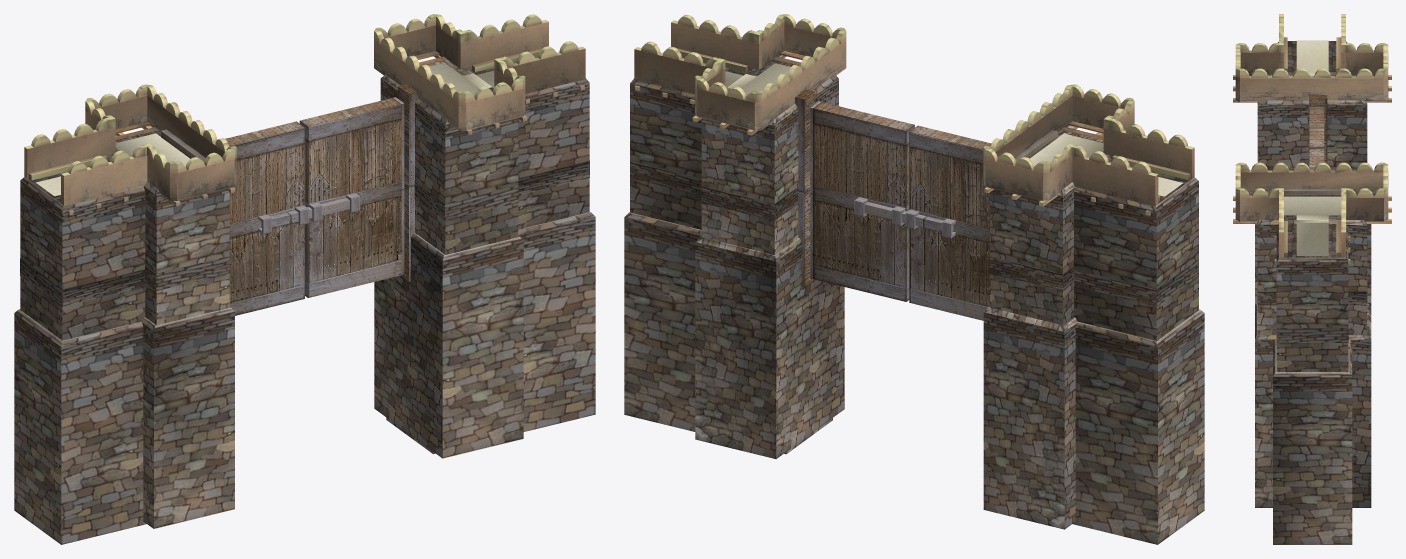
The model's file is s_kushites_wall_gate.glb.
3 renders of one model, left to right at view 1: azimuth 30°, elevation 25°; view 2: azimuth 150°, elevation 25°; view 3: azimuth 270°, elevation 25°, orthographic. The views are drawn at different scales.
Visible parts, largest first — view 1: s_kushites_wall_gate_part0, s_kushites_wall_gate_part1; view 2: s_kushites_wall_gate_part0, s_kushites_wall_gate_part1; view 3: s_kushites_wall_gate_part0, s_kushites_wall_gate_part1.
Boxes of the visible parts, x1,y1,x2,y2 form: s_kushites_wall_gate_part0: (14, 14, 595, 544); s_kushites_wall_gate_part1: (225, 84, 417, 315); s_kushites_wall_gate_part0: (624, 14, 1204, 544); s_kushites_wall_gate_part1: (795, 89, 991, 320); s_kushites_wall_gate_part0: (1233, 14, 1391, 544); s_kushites_wall_gate_part1: (1309, 95, 1327, 170).
Size of the model in its own units: 9.28 by 6.2 by 2.81.
2 materials, 2 textured.
